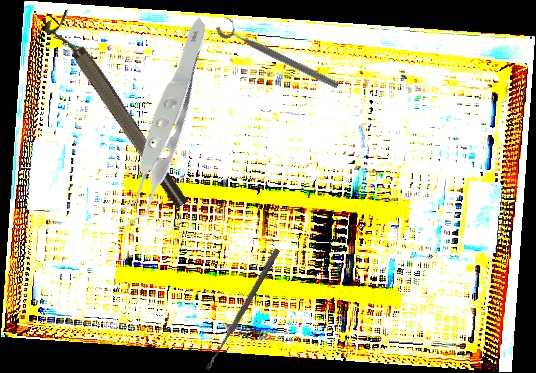Fixation Ring: (41, 8, 192, 217), (213, 13, 345, 93)
Surgical Spoon: (204, 247, 281, 372)
Tissue Forceps: (46, 15, 275, 235)
